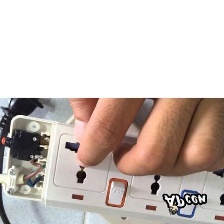three_eye_plug: (0, 111, 224, 223)
